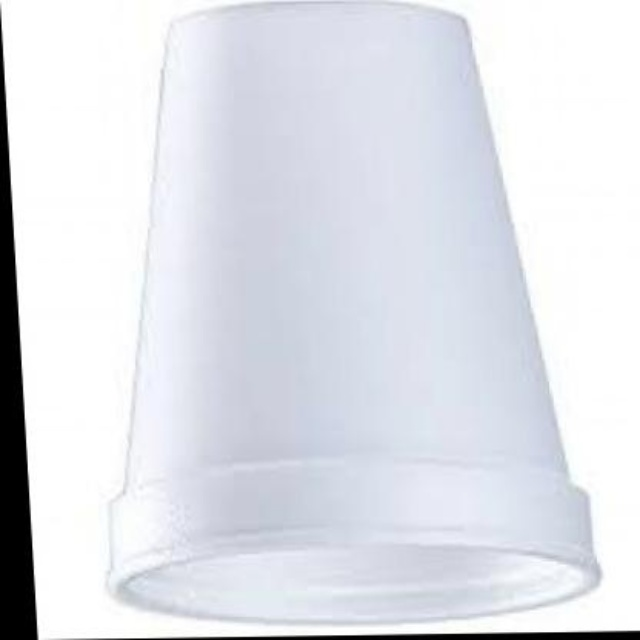trash: (111, 2, 598, 622)
